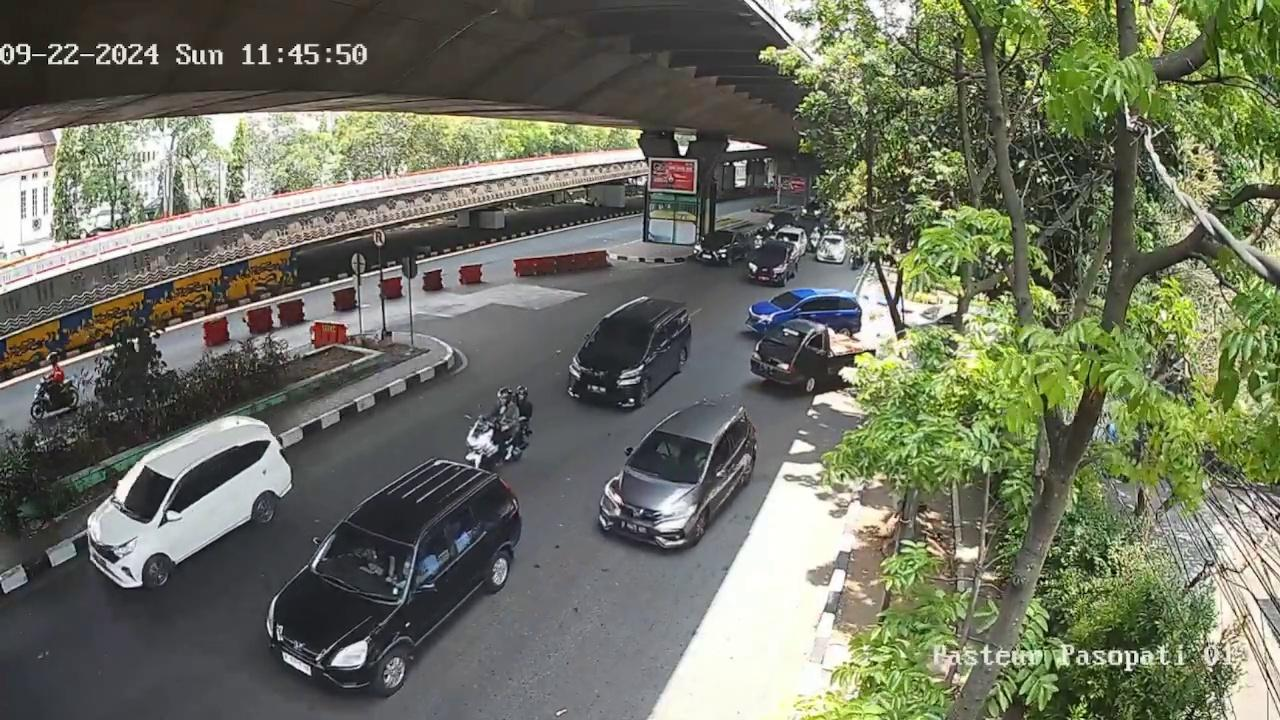pakai: (657, 439, 680, 463), (692, 448, 709, 467)
windshield: (314, 517, 421, 607), (630, 430, 714, 485), (115, 467, 174, 516), (589, 321, 652, 356)
